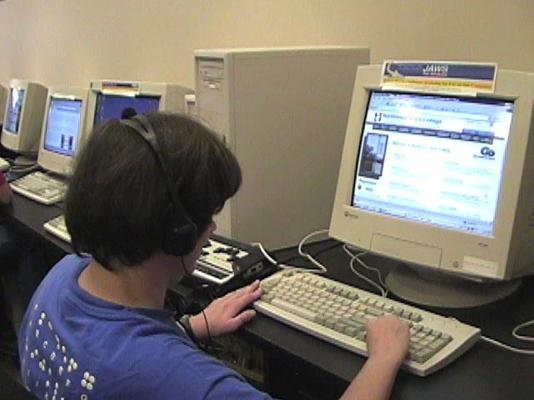person: (13, 111, 413, 400)
